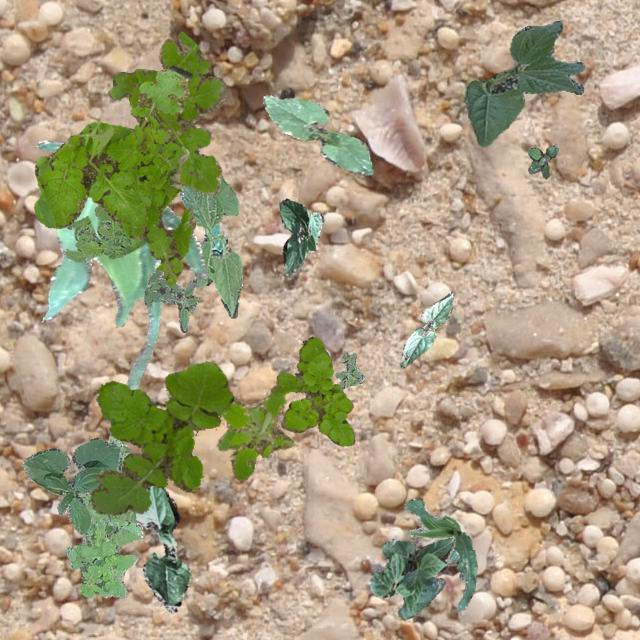crop: (34, 140, 208, 390), (464, 20, 584, 146), (20, 436, 120, 534), (178, 172, 242, 316), (262, 94, 372, 174), (404, 496, 476, 610), (134, 484, 190, 612), (368, 538, 454, 618), (398, 292, 452, 366), (278, 198, 324, 274)
weed: (32, 64, 194, 286), (90, 361, 232, 514), (108, 30, 225, 194), (65, 434, 142, 598), (272, 336, 354, 444), (216, 384, 294, 479), (61, 203, 146, 260), (144, 270, 198, 332), (334, 351, 364, 388), (526, 144, 558, 178)
